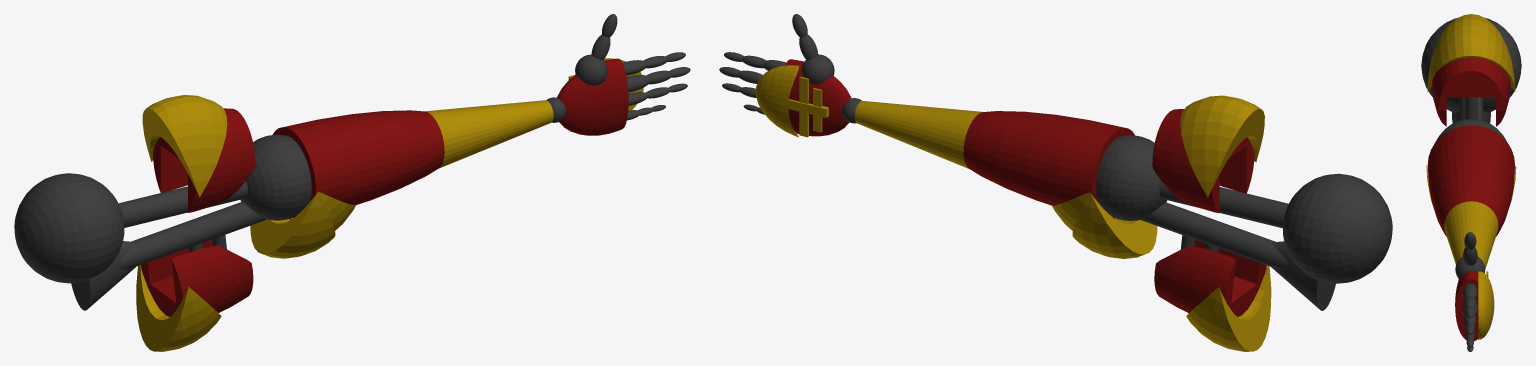
The model's file is leftArm.dae.
The picture shows the model from 3 angles, left to right: view 1: azimuth 30°, elevation 25°; view 2: azimuth 150°, elevation 25°; view 3: azimuth 270°, elevation 25°; orthographic projection. The views are drawn at different scales.
Parts seen in each view (by area): view 1: Sphere_005, Sphere, Sphere_029, Sphere_027, Cone_002, Cone_003, Sphere_026, Sphere_004, Sphere_007, Sphere_009, Sphere_028, Cylinder_002 (+1 smaller); view 2: Sphere_005, Sphere, Sphere_029, Sphere_027, Cone_002, Cone_003, Sphere_026, Sphere_004, Sphere_007, Sphere_028, Sphere_009, Cylinder_002 (+3 smaller); view 3: Sphere_005, Sphere_026, Sphere_027, Cone_003, Sphere, Sphere_001, Sphere_009, Sphere_004, Sphere_011, Cylinder_005, Cylinder_002, Sphere_024 (+6 smaller).
Part boxes in pixels (x1,y1,x2,y2): Sphere_005: [272, 110, 444, 218]; Sphere: [14, 173, 124, 283]; Sphere_029: [141, 239, 253, 316]; Sphere_027: [142, 95, 227, 197]; Cone_002: [71, 202, 266, 310]; Cone_003: [425, 100, 553, 168]; Sphere_026: [153, 108, 255, 212]; Sphere_004: [240, 134, 311, 220]; Sphere_007: [250, 192, 355, 258]; Sphere_009: [557, 58, 628, 135]; Sphere_028: [136, 265, 221, 351]; Cylinder_002: [118, 181, 247, 227]; Sphere_005: [963, 111, 1134, 218]; Sphere: [1283, 173, 1392, 283]; Sphere_029: [1154, 240, 1266, 316]; Sphere_027: [1180, 95, 1264, 197]; Cone_002: [1141, 202, 1335, 310]; Cone_003: [854, 101, 982, 168]; Sphere_026: [1152, 109, 1254, 213]; Sphere_004: [1096, 135, 1167, 221]; Sphere_007: [1052, 192, 1157, 258]; Sphere_028: [1186, 265, 1271, 351]; Sphere_009: [785, 59, 851, 136]; Cylinder_002: [1159, 181, 1288, 228]; Sphere_005: [1427, 125, 1514, 236]; Sphere_026: [1432, 58, 1510, 126]; Sphere_027: [1427, 14, 1515, 91]; Cone_003: [1444, 201, 1498, 268]; Sphere: [1421, 17, 1521, 112]; Sphere_001: [1478, 271, 1494, 339]; Sphere_009: [1455, 270, 1478, 341]; Sphere_004: [1435, 119, 1506, 141]; Sphere_011: [1455, 256, 1485, 278]; Cylinder_005: [1465, 97, 1477, 119]; Cylinder_002: [1459, 97, 1482, 120]; Sphere_024: [1463, 247, 1477, 265].
Bounding box in the file's own units: 6.85 × 0.98 × 2.43.
